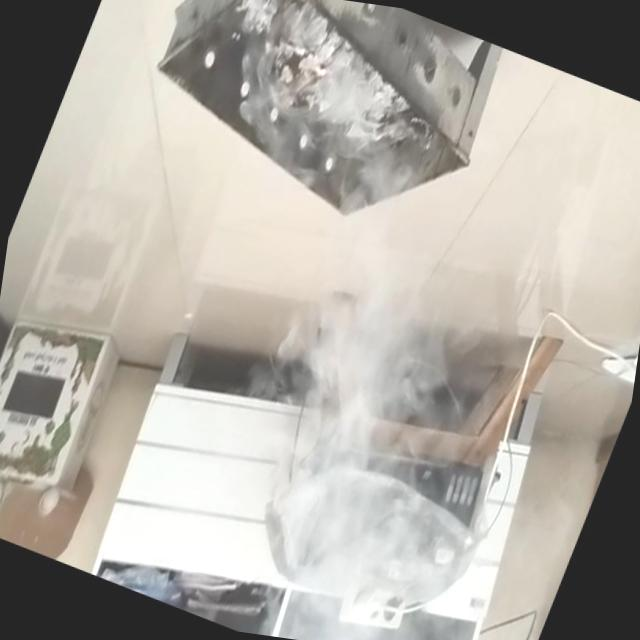smoke: (183, 2, 498, 305), (215, 335, 515, 640)
